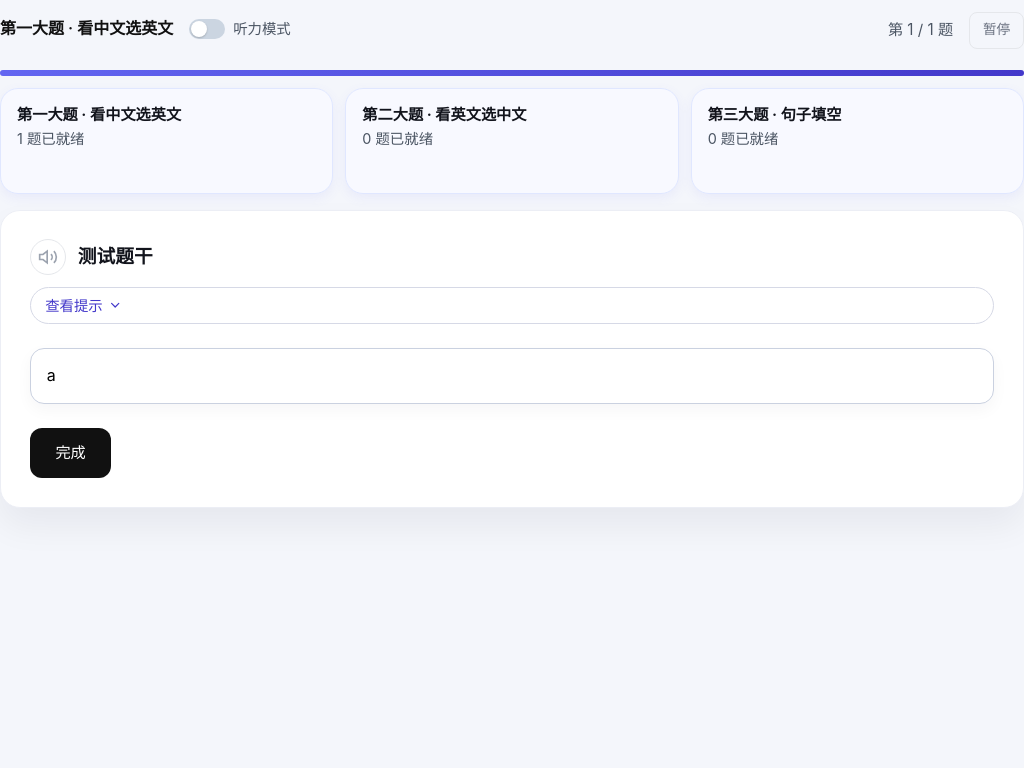
it: QuizPage › Session Resume › 取消暂停后关闭对话框继续答题
The width and height of the screenshot is (1024, 768).
Click the button "暂停".
click(997, 30)  # box [969,12,1023,48]
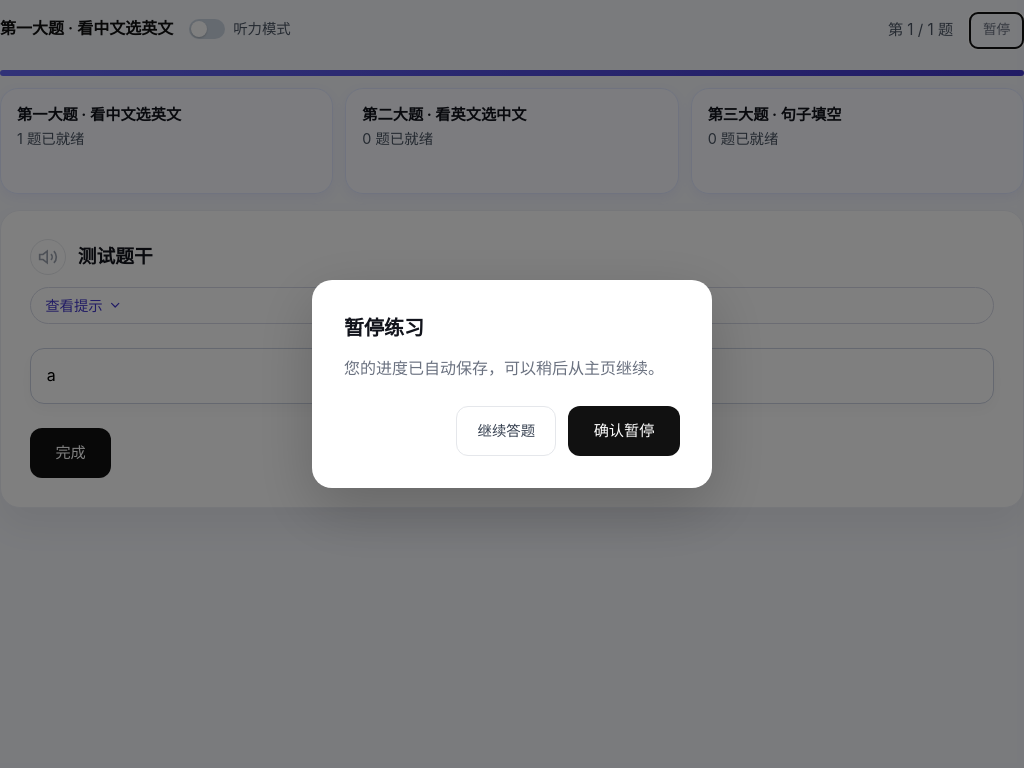
Click the button "继续答题".
click(506, 431)  # box [456,406,556,456]
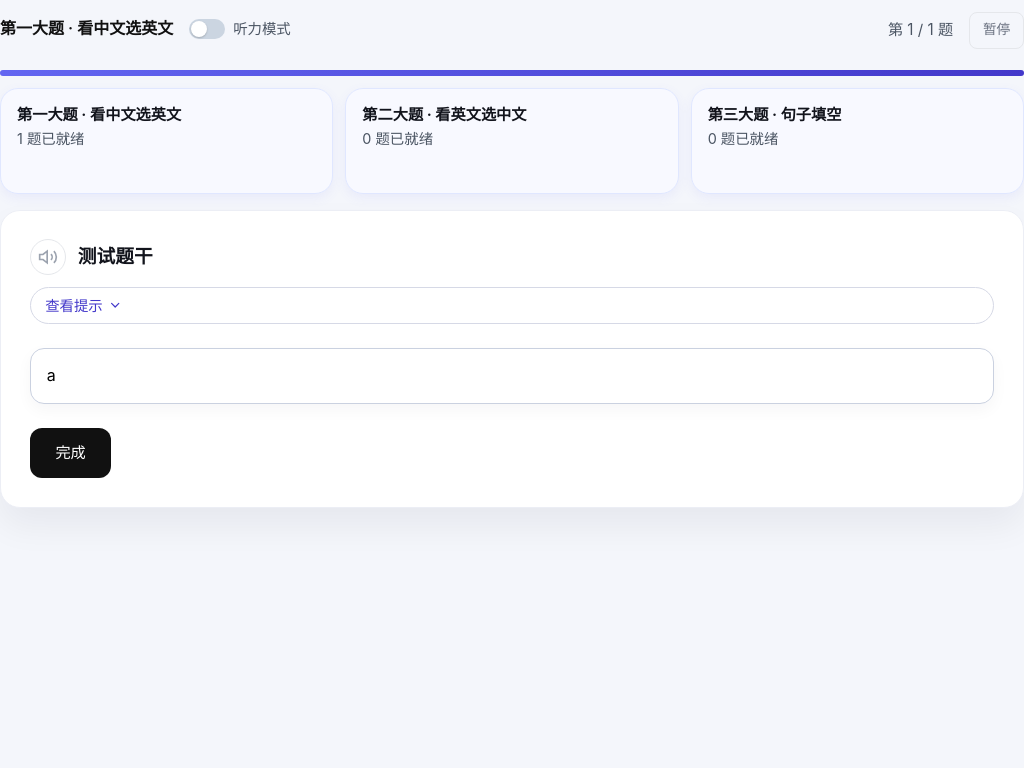
Expected: the heading "暂停练习" is gone
